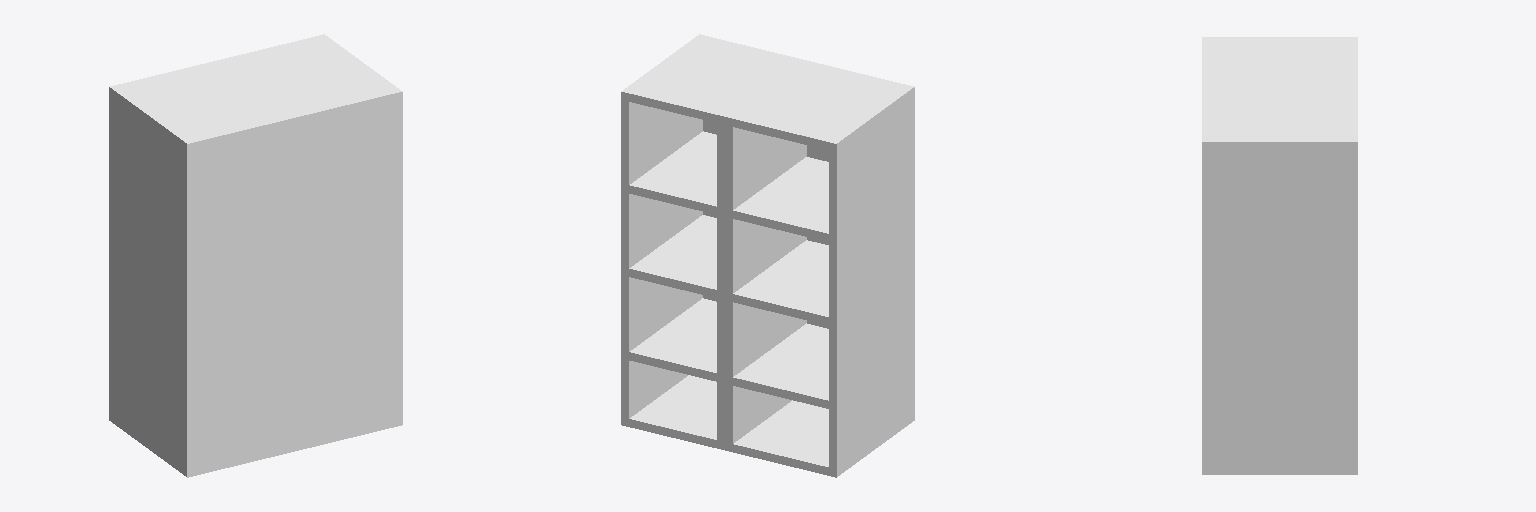
Rendered from Cajones.obj.
3 views of the same model, side by side, from view 1: azimuth 30°, elevation 25°; view 2: azimuth 150°, elevation 25°; view 3: azimuth 270°, elevation 25° (orthographic).
Visible parts, largest first — view 1: object 1; view 2: object 1; view 3: object 1.
Boxes of the visible parts, <box> form: object 1: <box>109,34,402,477</box>; object 1: <box>621,34,914,477</box>; object 1: <box>1202,37,1357,474</box>.
Size of the model in its own units: 2.7 by 4 by 1.7.